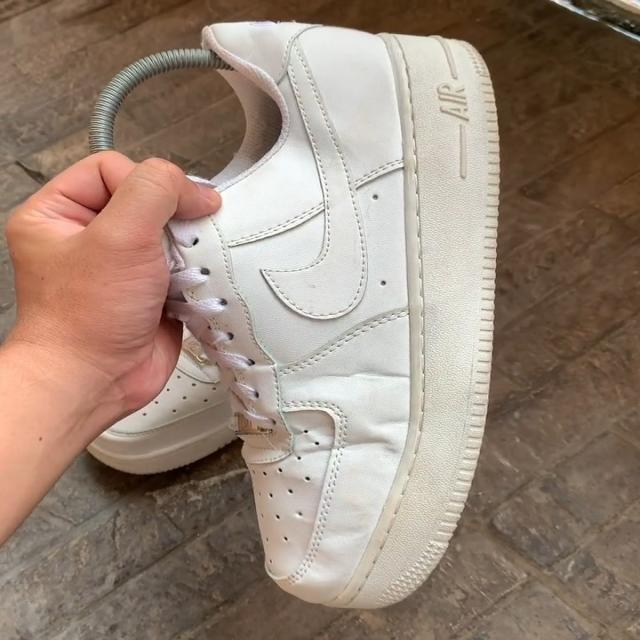nike fake air force: (97, 19, 498, 614)
